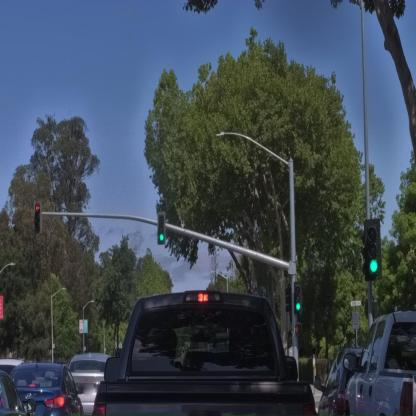car: (86, 290, 315, 416), (348, 309, 415, 415), (8, 362, 89, 416), (318, 346, 369, 415), (67, 354, 112, 414), (0, 361, 37, 416), (0, 358, 25, 378)
traffic light: (362, 220, 382, 280), (157, 215, 167, 245), (294, 284, 302, 313), (34, 203, 40, 232)
